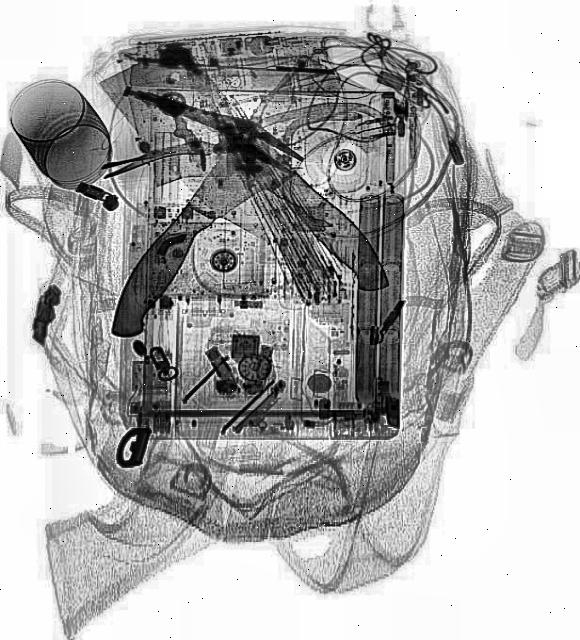Knife: (99, 20, 400, 344), (98, 42, 348, 358)
